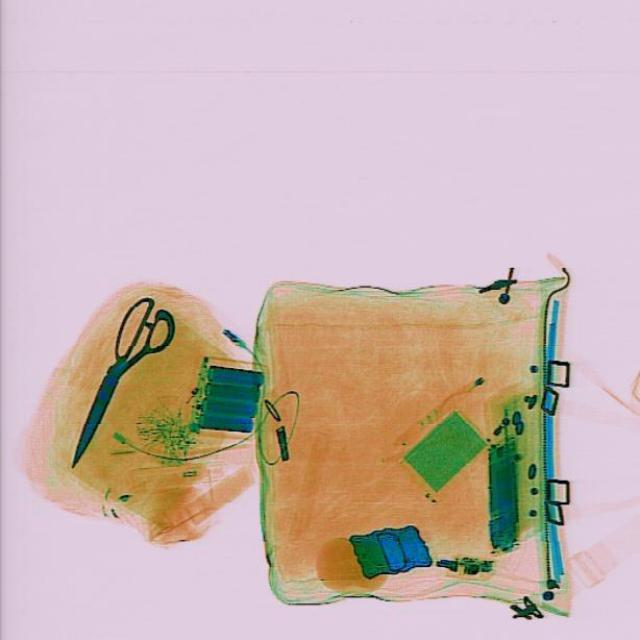Scissors: (44, 291, 184, 477)
